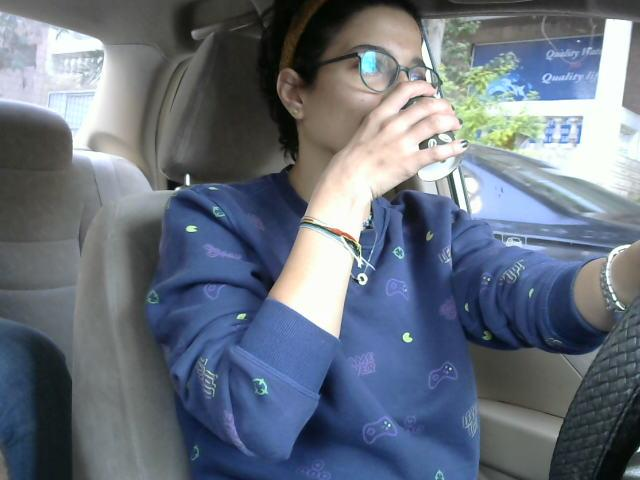Drinking: (276, 16, 469, 185)
